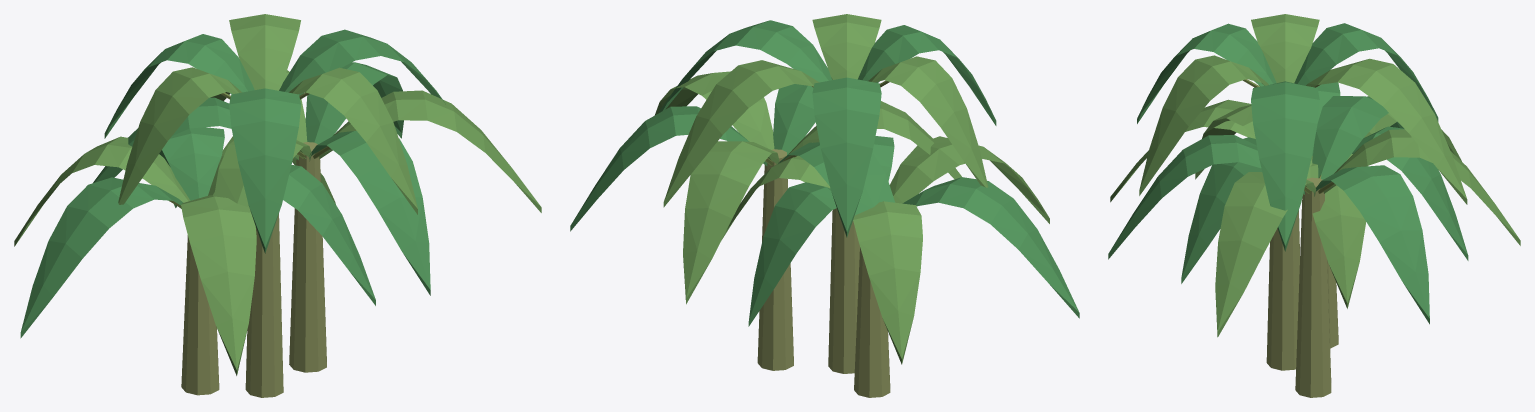
The model's file is SM_BananaClump.fbx.
3 renders of one model, left to right at view 1: azimuth 30°, elevation 25°; view 2: azimuth 150°, elevation 25°; view 3: azimuth 270°, elevation 25°, orthographic. The views are drawn at different scales.
Parts seen in each view (by area): view 1: SM_BananaClump; view 2: SM_BananaClump; view 3: SM_BananaClump.
Part boxes in pixels (<box>): SM_BananaClump: <box>14,14,541,397</box>; SM_BananaClump: <box>570,14,1079,397</box>; SM_BananaClump: <box>1108,14,1520,397</box>.
Bounding box in the file's own units: 372 × 288 × 242.
